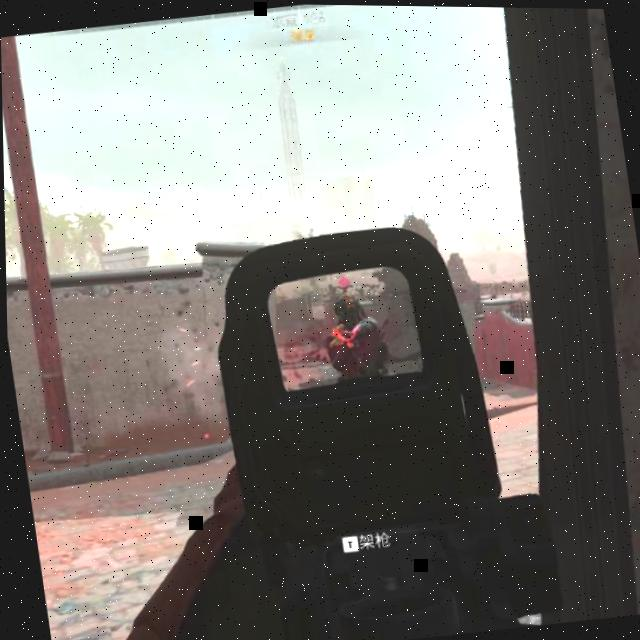MW2_body: (316, 271, 387, 381)
